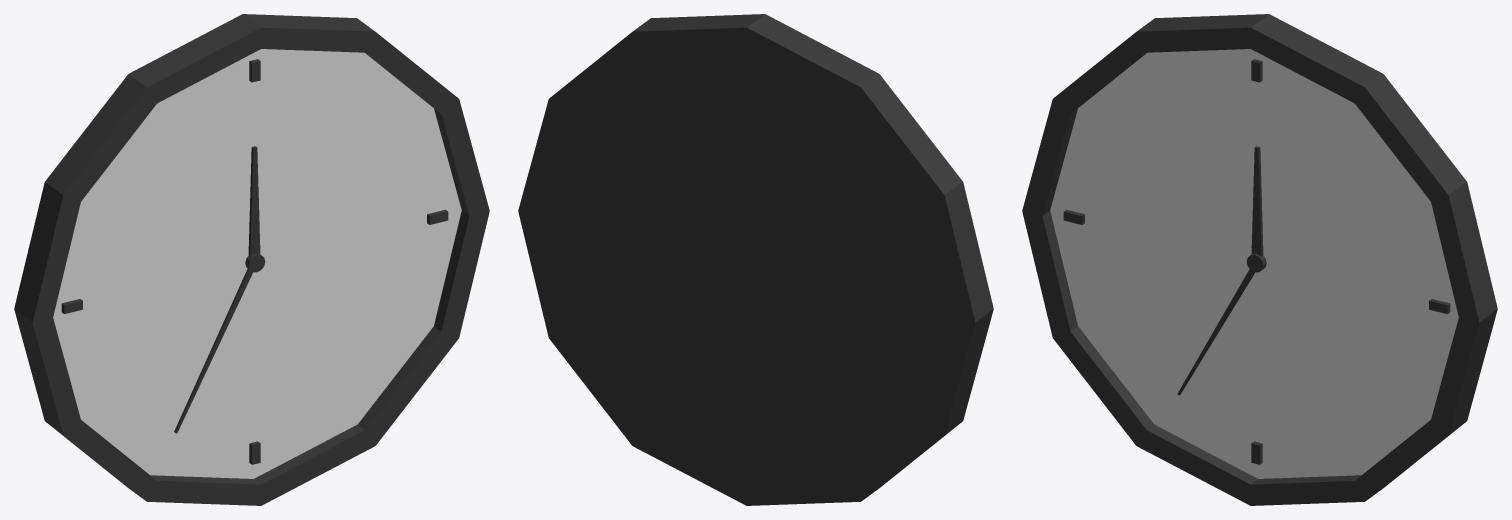
The model's file is clock.fbx.
3 renders of one model, left to right at view 1: azimuth 30°, elevation 25°; view 2: azimuth 150°, elevation 25°; view 3: azimuth 330°, elevation 25°, orthographic.
Visible parts, largest first — view 1: Clock_03; view 2: Clock_03; view 3: Clock_03.
Boxes of the visible parts, bbox=[...] form: Clock_03: bbox=[14, 14, 489, 505]; Clock_03: bbox=[518, 14, 993, 505]; Clock_03: bbox=[1022, 14, 1497, 505].
Size of the model in its own units: 75.53 by 75.53 by 5.31.
